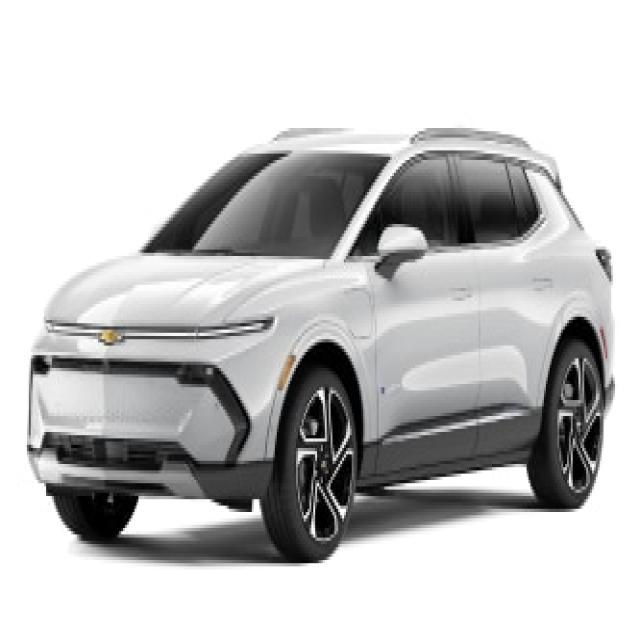sedan: (25, 122, 615, 560)
